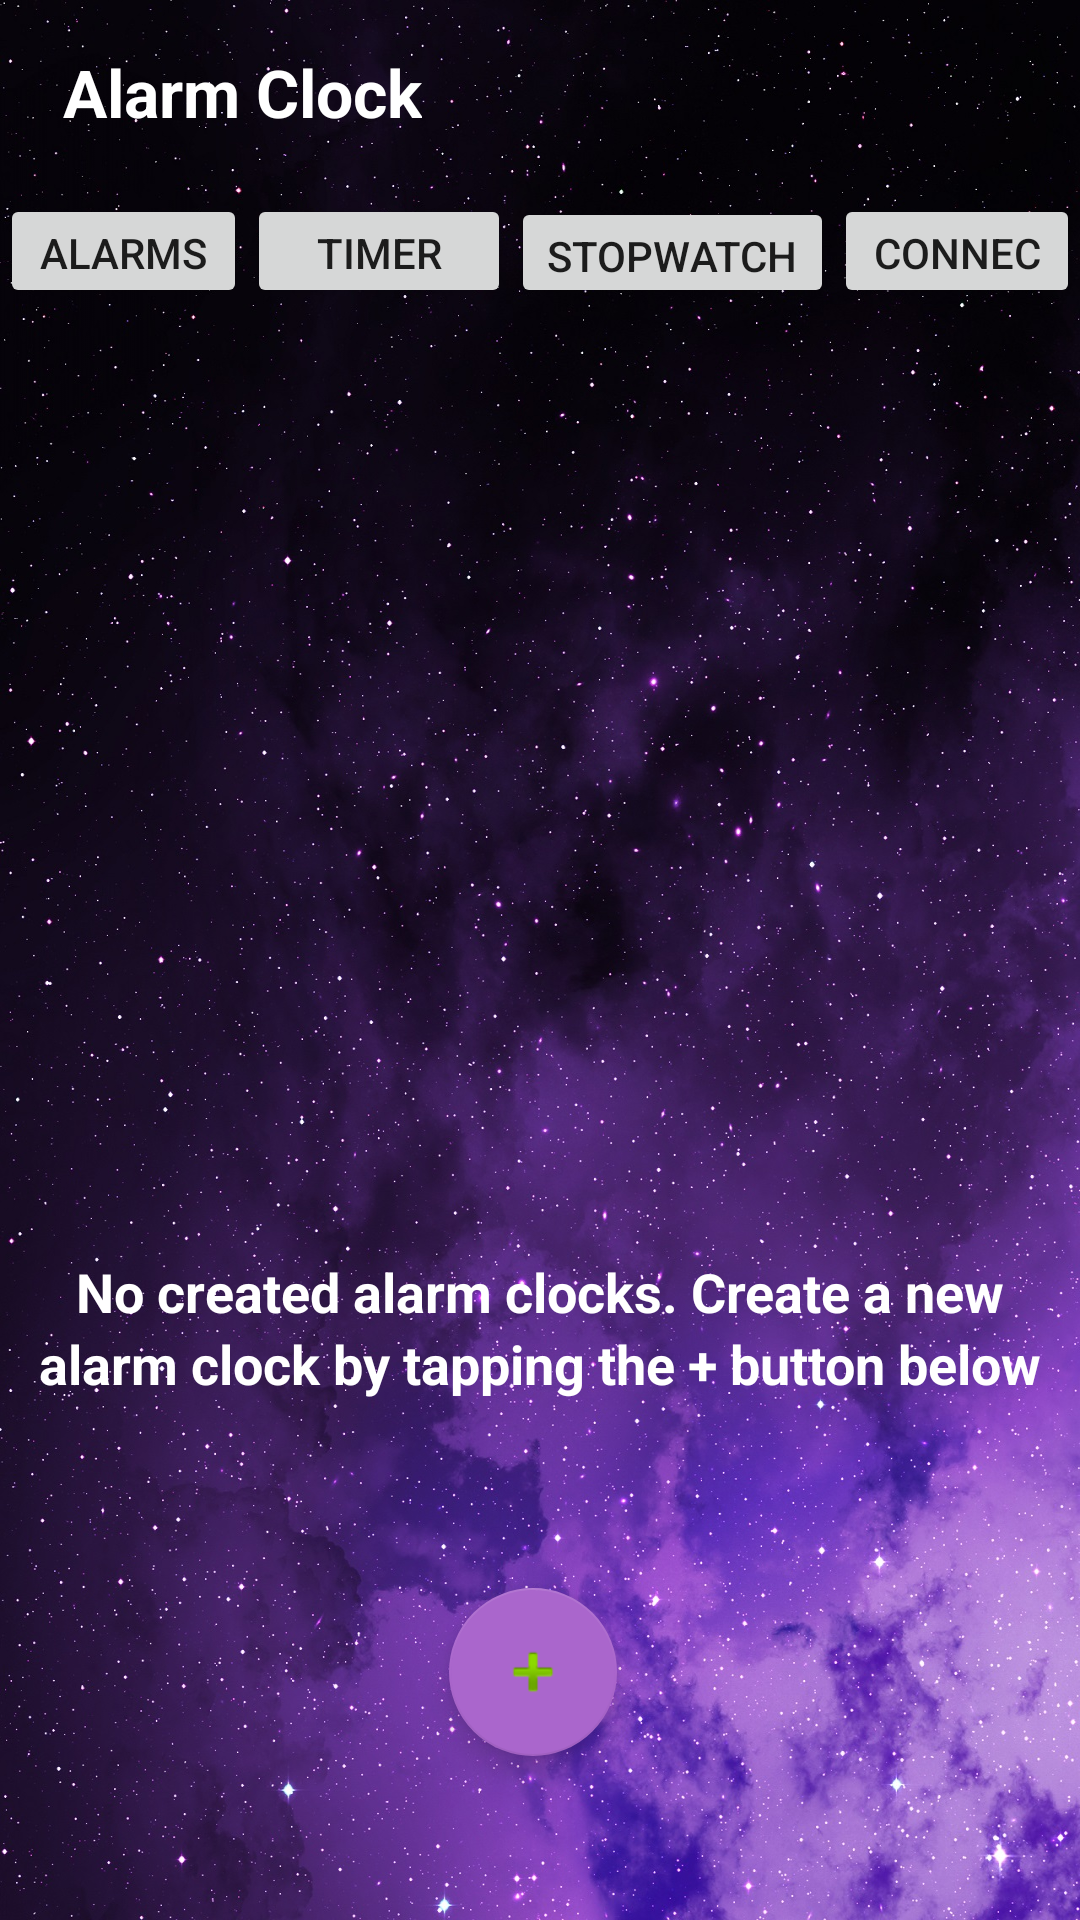

Icons on this 1080px x 1920px Android screen, each with its box as (x1, y1, x2, y2):
add: (449, 1588, 617, 1756)
